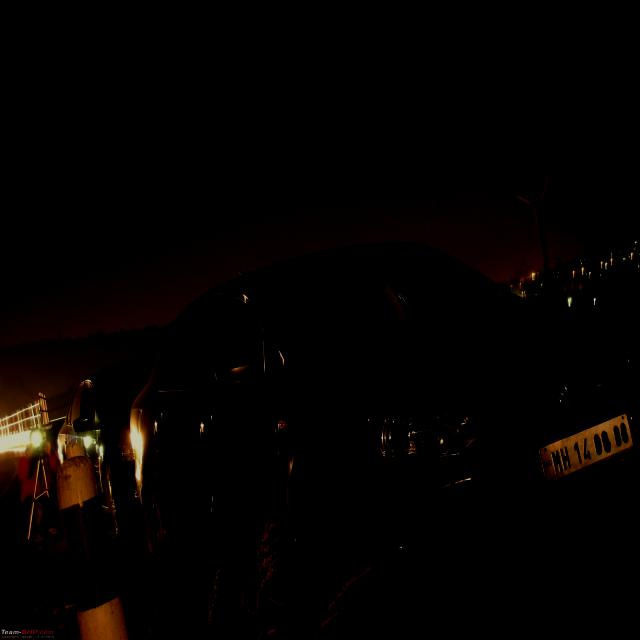Car: (127, 231, 640, 640)
